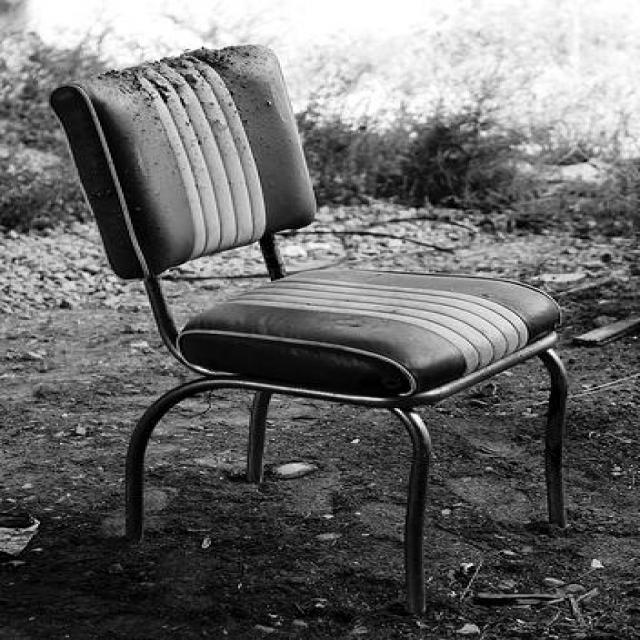chair: (50, 46, 572, 611)
